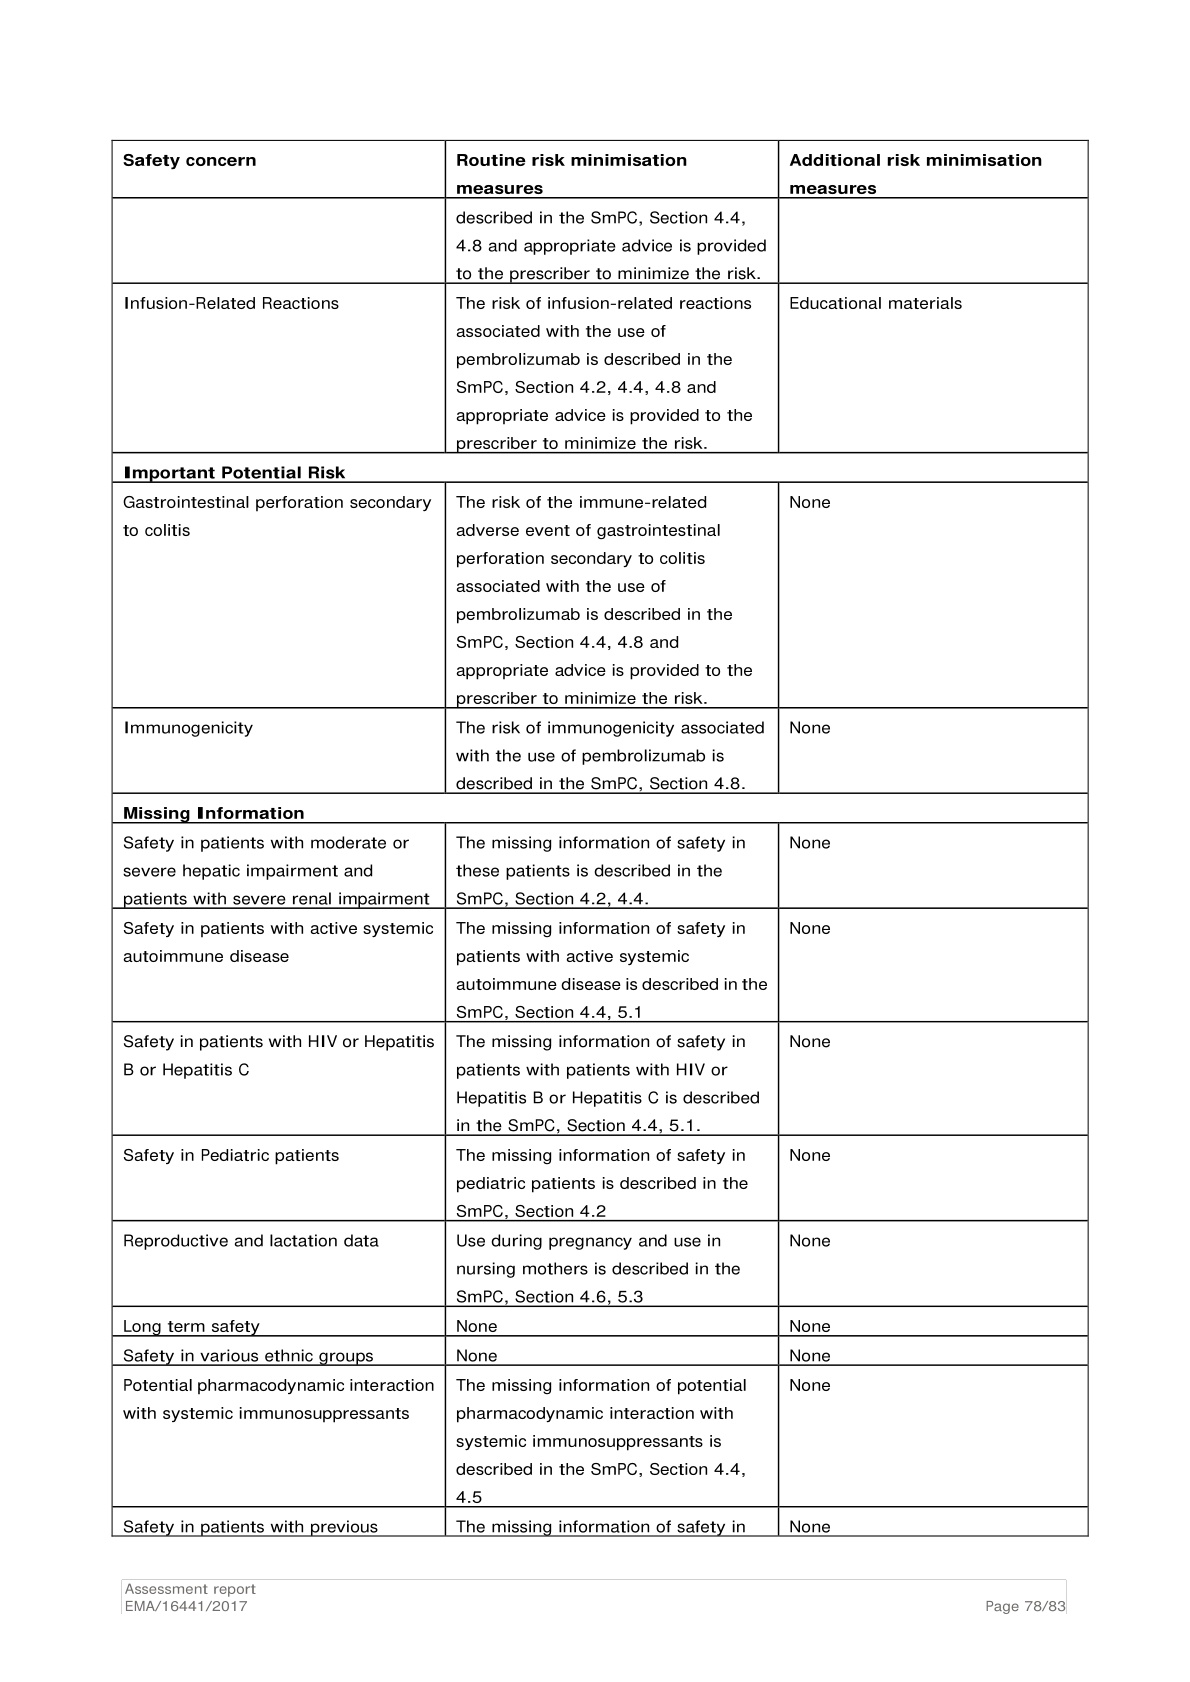merged_cells: (109, 138, 1090, 1538)
